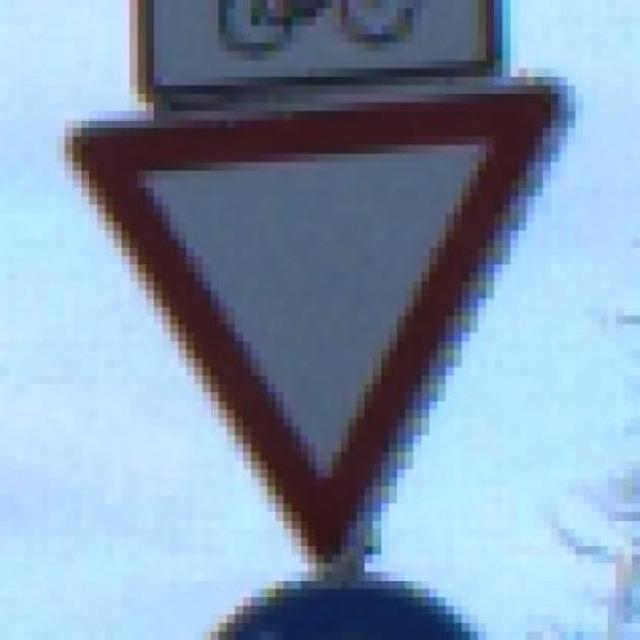Give Way: (40, 68, 600, 581)
